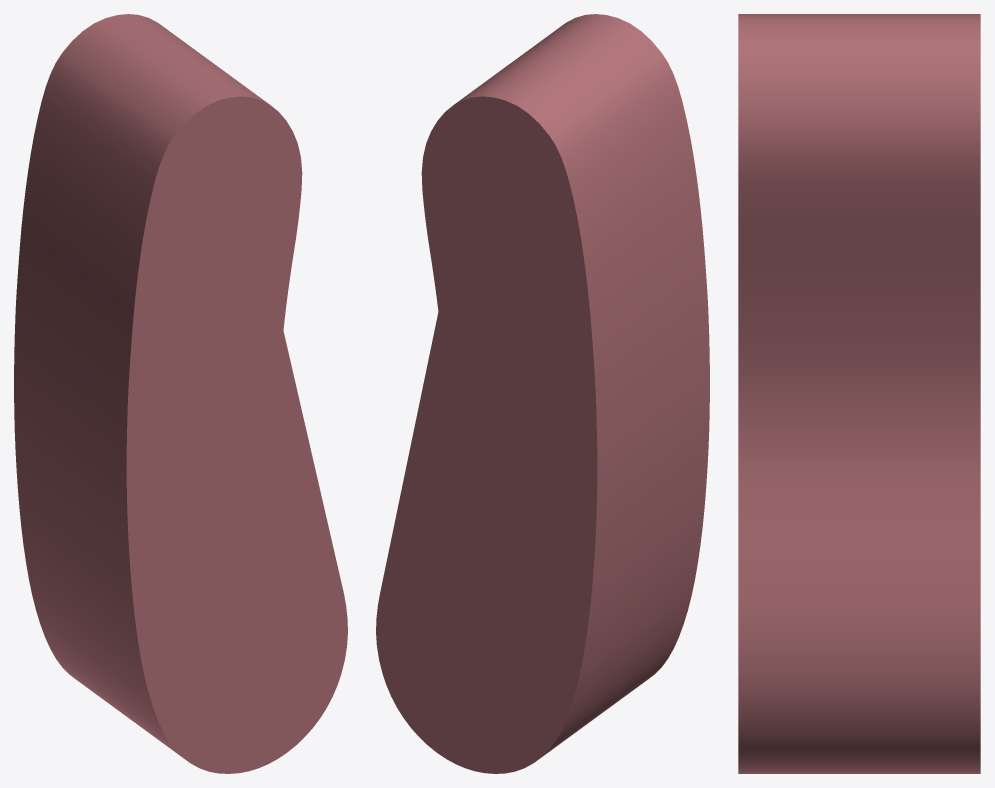
File: BigI.fbx
The picture shows the model from 3 angles, left to right: view 1: azimuth 30°, elevation 25°; view 2: azimuth 150°, elevation 25°; view 3: azimuth 270°, elevation 25°; orthographic projection. The views are drawn at different scales.
Parts seen in each view (by area): view 1: capital_i; view 2: capital_i; view 3: capital_i.
Part boxes in pixels (x1,y1,x2,y2): capital_i: [14, 14, 347, 773]; capital_i: [376, 14, 709, 773]; capital_i: [738, 14, 980, 773].
Bounding box in the file's own units: 3.09 × 9.05 × 2.72.
